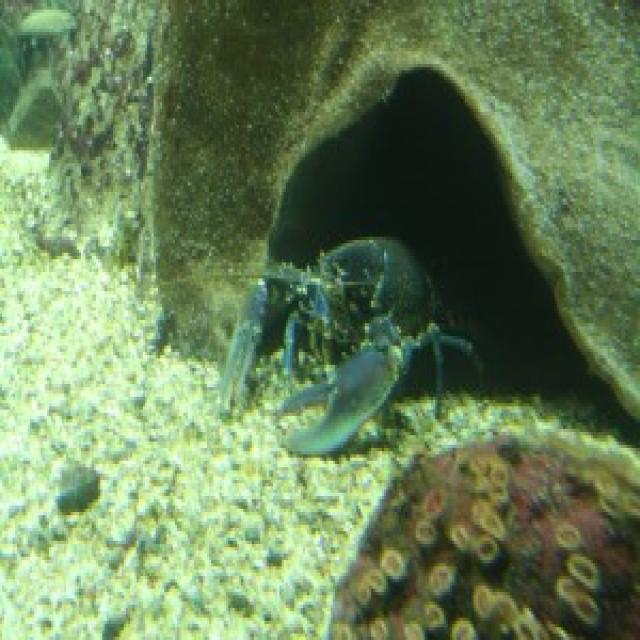lobsters: (173, 196, 528, 471)
